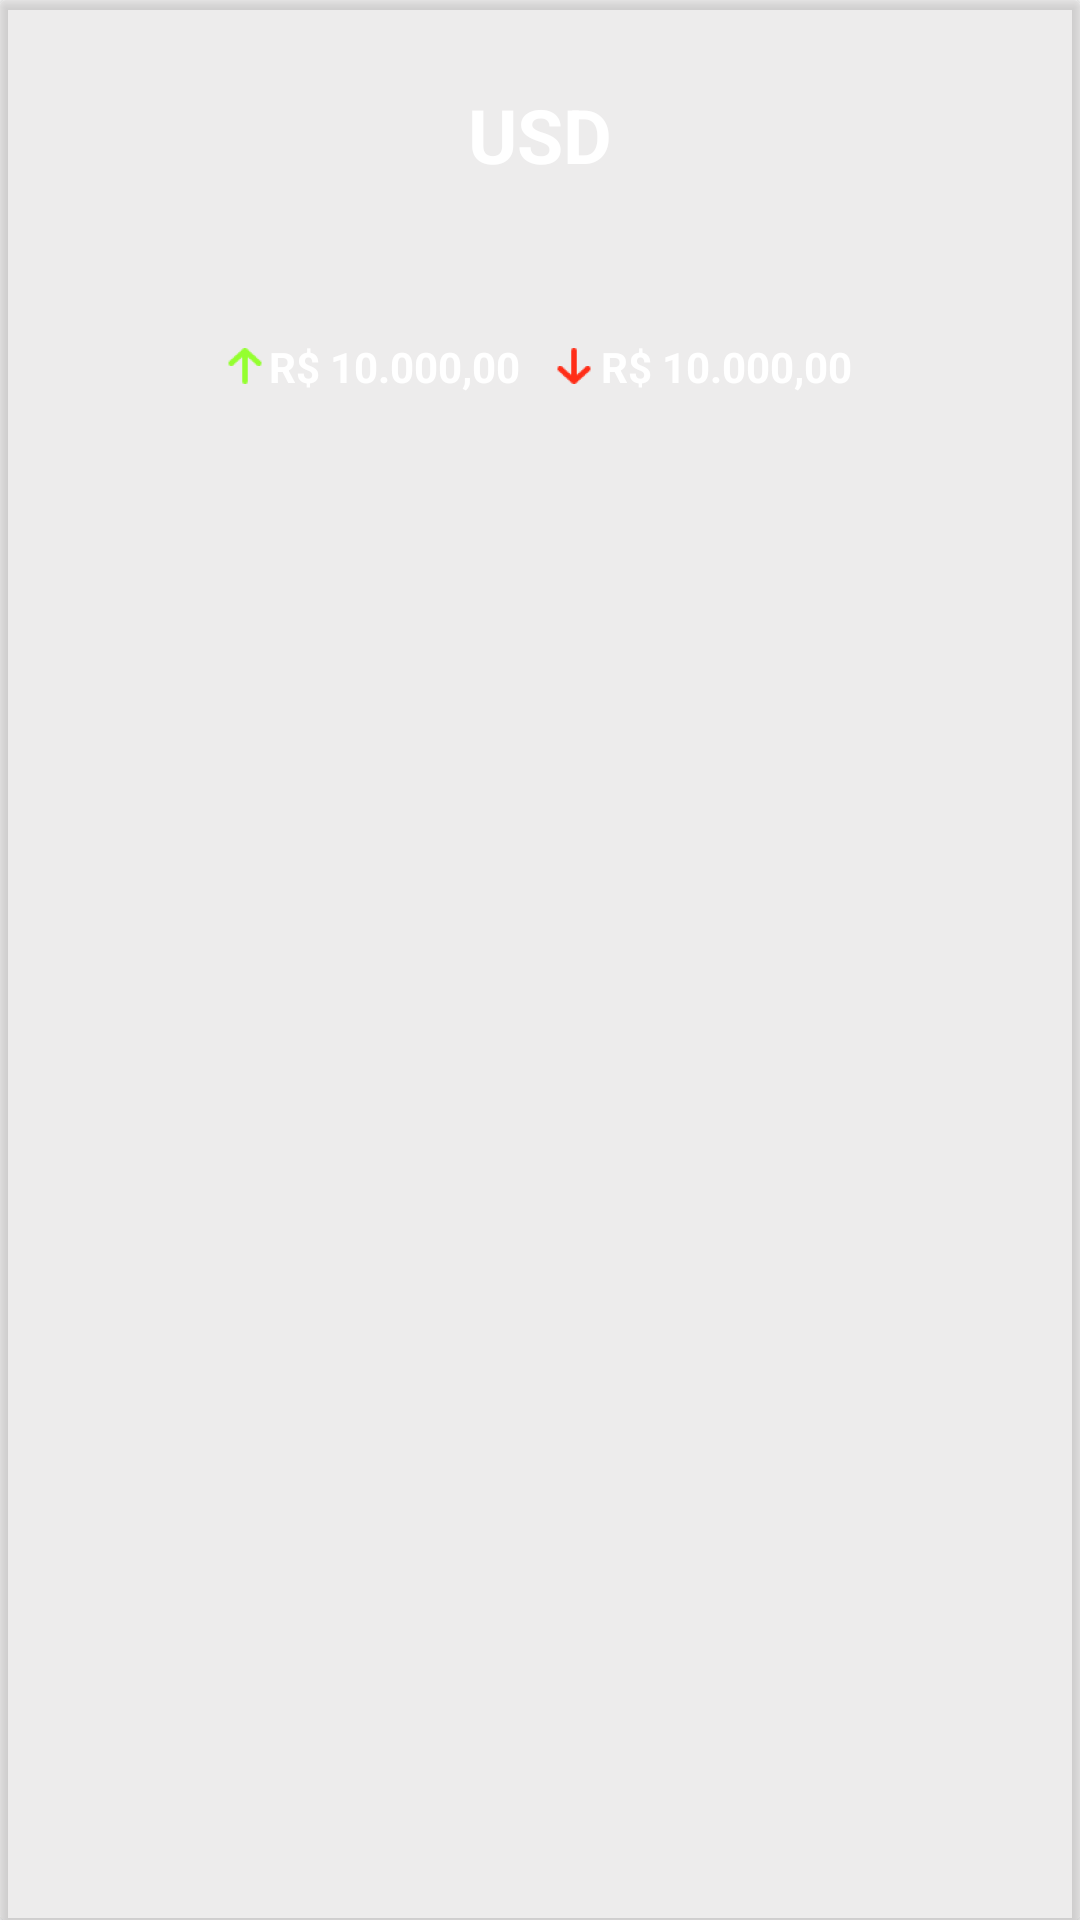

Icon bounding boxes for this 1080×1920 phone screenshot, format (x1, y1, x2, y2):
high price: (228, 348, 262, 384)
low price: (557, 348, 591, 384)
